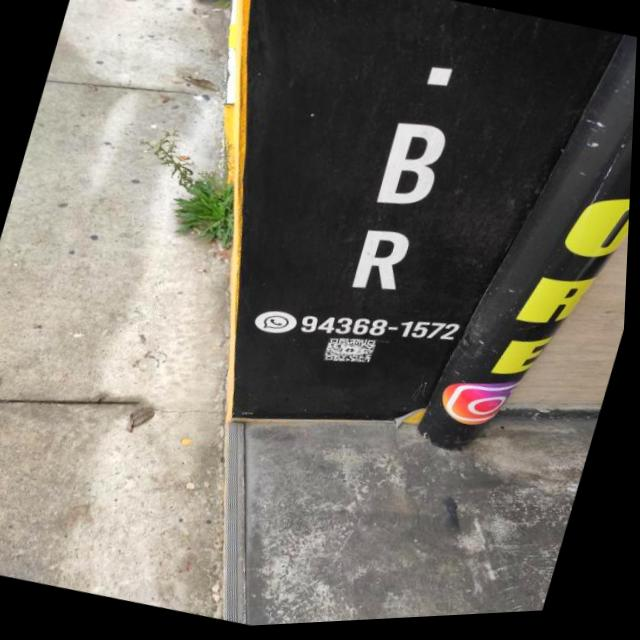qrcode: (327, 334, 381, 375)
